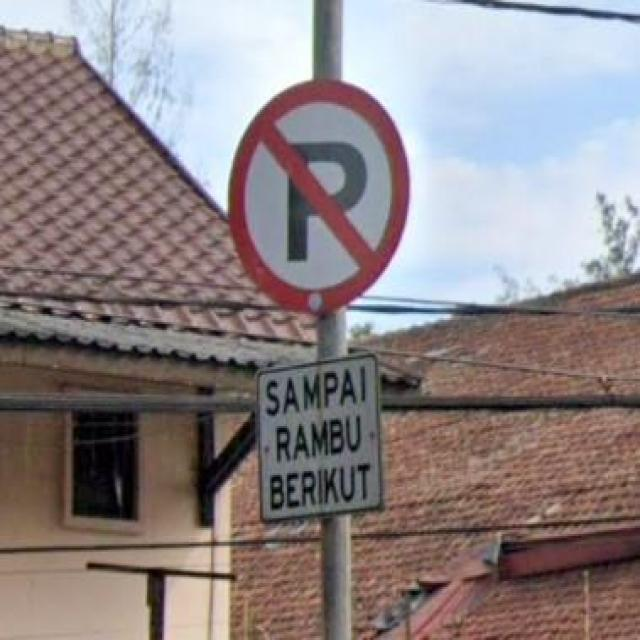traffic sign: (227, 83, 411, 312)
